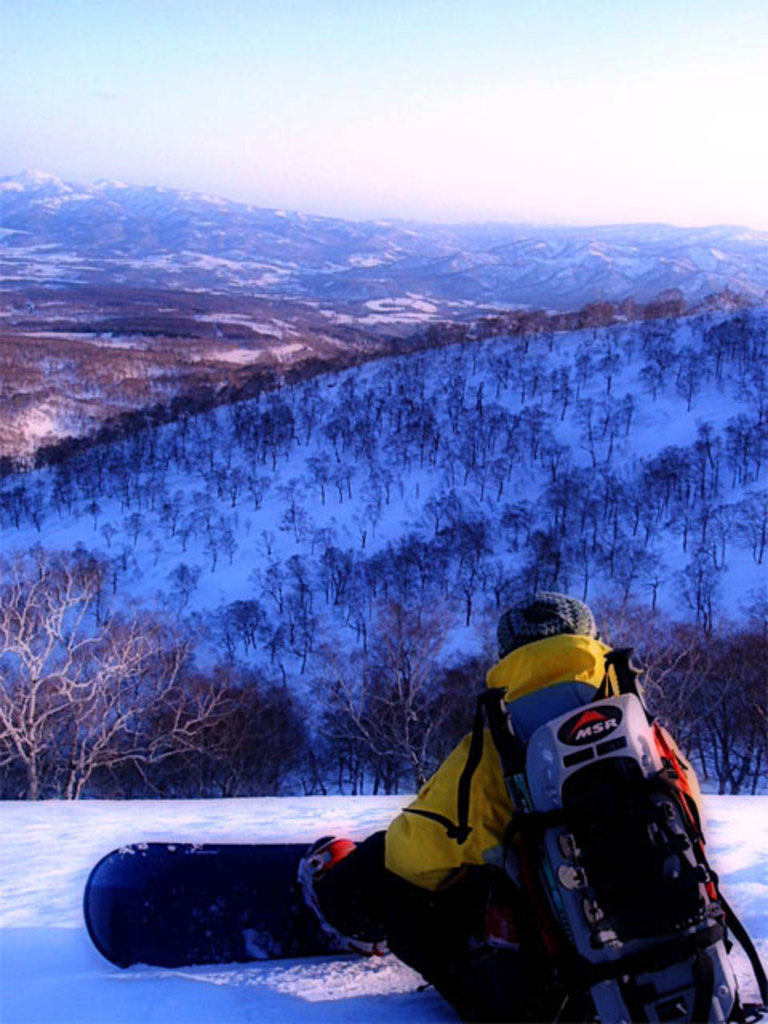Person: (297, 589, 747, 1024)
